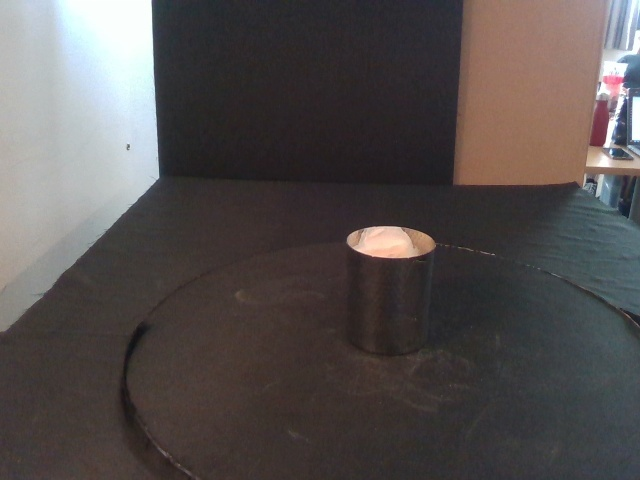candle: (346, 225, 438, 357)
